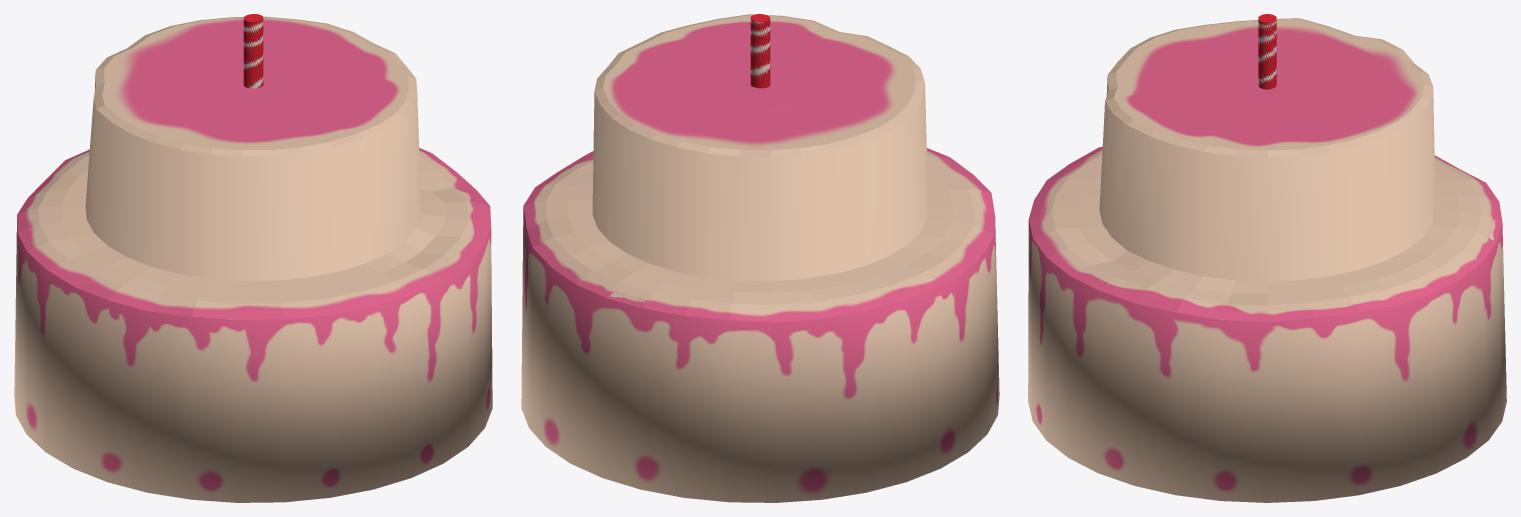
The model's file is Cake 1.fbx.
3 renders of one model, left to right at view 1: azimuth 30°, elevation 25°; view 2: azimuth 150°, elevation 25°; view 3: azimuth 270°, elevation 25°, orthographic.
Visible parts, largest first — view 1: Cylinder, Cylinder.001; view 2: Cylinder, Cylinder.001; view 3: Cylinder, Cylinder.001.
Boxes of the visible parts, box(x1,y1,x2,y2) form: Cylinder: box(14, 16, 492, 502); Cylinder.001: box(243, 14, 263, 88); Cylinder: box(521, 14, 999, 502); Cylinder.001: box(750, 14, 770, 88); Cylinder: box(1028, 18, 1506, 502); Cylinder.001: box(1258, 14, 1276, 89).
Size of the model in its own units: 200 by 200 by 200.
